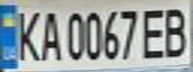0: (81, 7, 106, 61), (60, 7, 84, 62)
6: (103, 6, 124, 61)
7: (118, 4, 142, 61)
A: (33, 7, 63, 62)
B: (157, 2, 193, 58)
E: (139, 3, 172, 61)
K: (9, 6, 45, 63)
